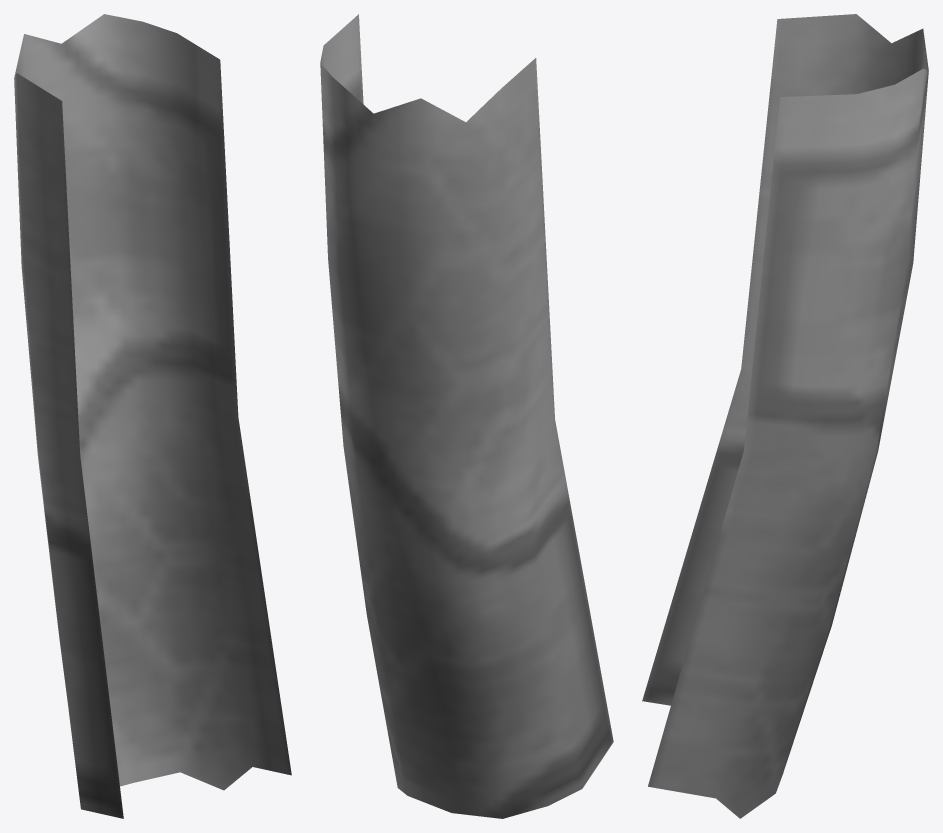
File: health_bar_mid.obj
3 renders of one model, left to right at view 1: azimuth 30°, elevation 25°; view 2: azimuth 150°, elevation 25°; view 3: azimuth 270°, elevation 25°, orthographic. The views are drawn at different scales.
Visible parts, largest first — view 1: isaac_clarke_isaac_healthbar.002; view 2: isaac_clarke_isaac_healthbar.002; view 3: isaac_clarke_isaac_healthbar.002.
Part boxes in pixels (x1,y1,x2,y2): isaac_clarke_isaac_healthbar.002: (14,14,291,818); isaac_clarke_isaac_healthbar.002: (320,14,613,818); isaac_clarke_isaac_healthbar.002: (642,14,928,818).
Bounding box in the file's own units: 0.9811 × 3.78 × 1.34.
1 material, 1 textured.
